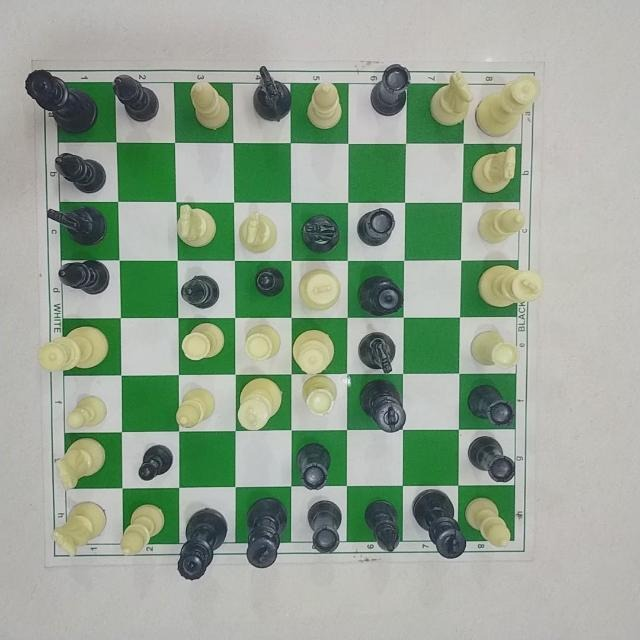black-bishop: (109, 72, 160, 124), (52, 150, 108, 195), (362, 498, 402, 553), (56, 257, 112, 296), (179, 273, 221, 310)
black-king: (410, 487, 468, 561), (245, 496, 291, 570), (358, 378, 408, 434)
black-knight: (44, 205, 108, 247), (251, 64, 293, 124), (356, 330, 398, 376), (300, 213, 342, 255)
black-pawn: (135, 443, 174, 482), (252, 265, 285, 298)
black-queen: (23, 67, 99, 136), (176, 505, 230, 582), (355, 275, 405, 317)
black-rook: (465, 434, 517, 484), (368, 61, 412, 118), (465, 383, 517, 429), (305, 498, 343, 556), (294, 441, 332, 493), (355, 206, 397, 248)
white-bishop: (117, 502, 166, 558), (463, 496, 513, 548), (188, 78, 232, 132), (304, 79, 344, 131), (475, 206, 527, 246), (172, 386, 217, 430)
white-king: (476, 263, 545, 309), (235, 375, 284, 432), (297, 267, 343, 311)
white-knight: (49, 499, 109, 559), (53, 435, 109, 491), (428, 70, 474, 128), (469, 143, 519, 195), (174, 203, 218, 249), (236, 210, 278, 255)
white-pawn: (64, 395, 108, 431)
white-queen: (473, 71, 542, 138), (35, 324, 110, 373), (290, 328, 336, 376)
white-rook: (468, 329, 521, 371), (180, 321, 226, 363), (300, 373, 339, 417), (242, 323, 281, 363)
